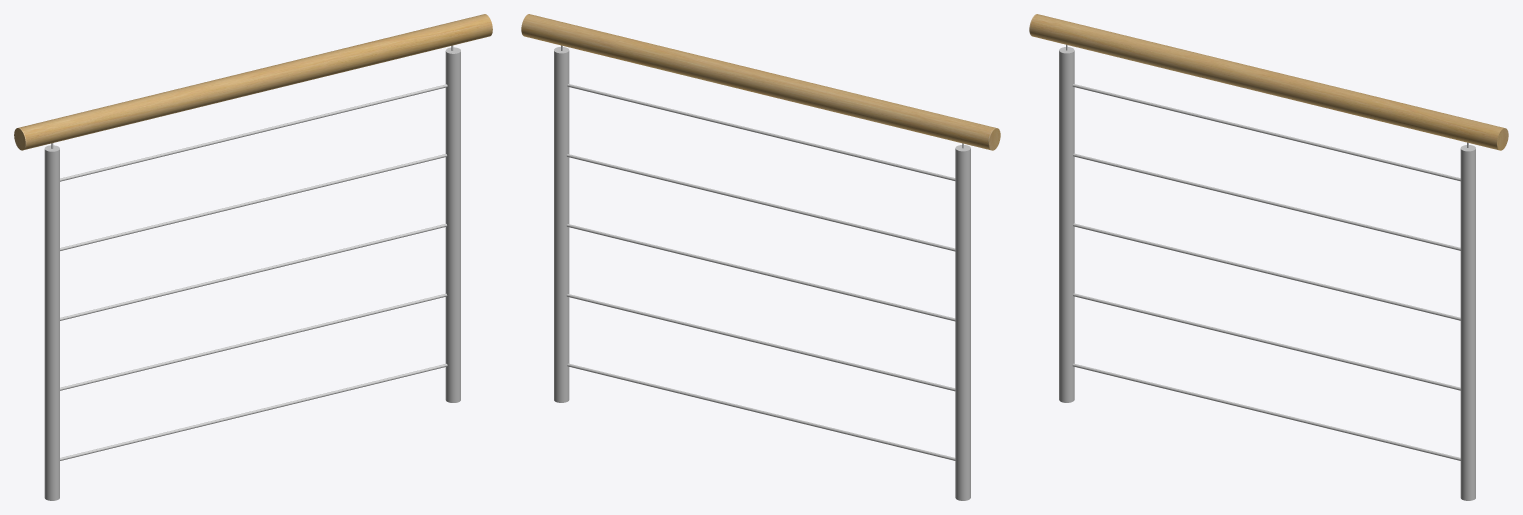
File: sweethome3d-contributions-railing-472.glb
The picture shows the model from 3 angles, left to right: view 1: azimuth 30°, elevation 25°; view 2: azimuth 150°, elevation 25°; view 3: azimuth 330°, elevation 25°; orthographic projection.
Visible parts, largest first — view 1: Cylinder_23_2_2, Cylinder32_3_3_3, Cylinder32_9_1_1; view 2: Cylinder_23_2_2, Cylinder32_3_3_3, Cylinder32_9_1_1; view 3: Cylinder_23_2_2, Cylinder32_3_3_3, Cylinder32_9_1_1.
Boxes of the visible parts, box(x1,y1,x2,y2) form: Cylinder_23_2_2: box(14, 14, 492, 150); Cylinder32_3_3_3: box(44, 47, 460, 500); Cylinder32_9_1_1: box(60, 84, 447, 460); Cylinder_23_2_2: box(521, 14, 1000, 150); Cylinder32_3_3_3: box(554, 47, 970, 500); Cylinder32_9_1_1: box(566, 84, 955, 460); Cylinder_23_2_2: box(1029, 14, 1508, 150); Cylinder32_3_3_3: box(1059, 47, 1475, 500); Cylinder32_9_1_1: box(1072, 84, 1460, 460).
Size of the model in its own units: 140 by 108 by 6.
4 materials, 1 textured.
